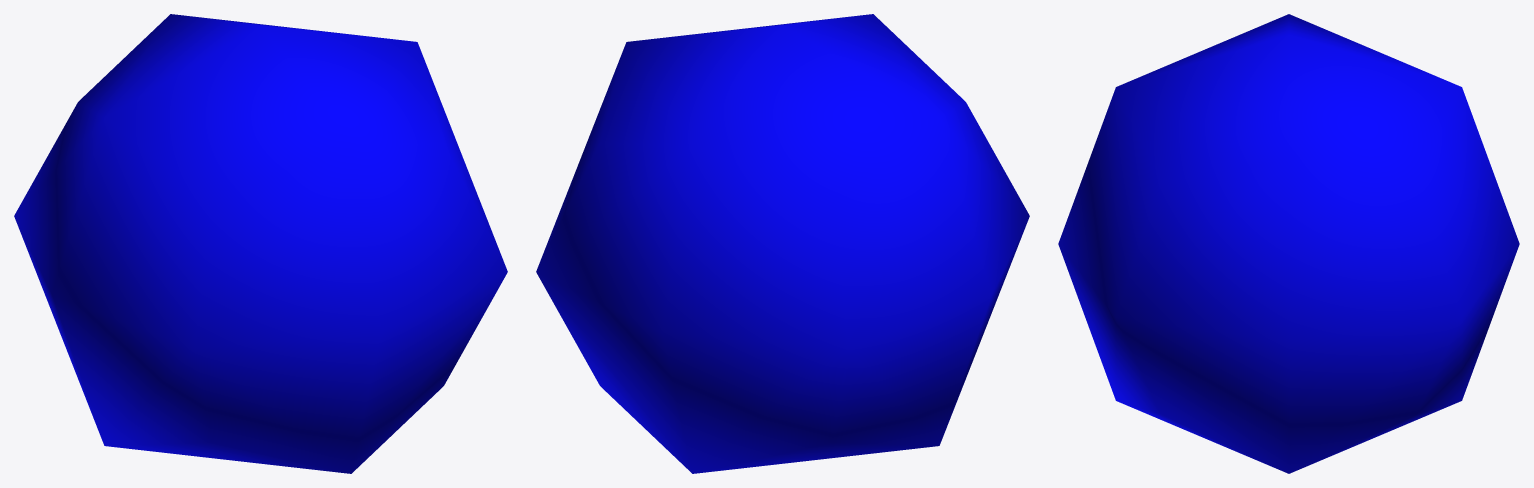
Rendered from axePowerUp.fbx.
3 views of the same model, side by side, from view 1: azimuth 30°, elevation 25°; view 2: azimuth 150°, elevation 25°; view 3: azimuth 270°, elevation 25° (orthographic). The views are drawn at different scales.
Visible parts, largest first — view 1: pCube2; view 2: pCube2; view 3: pCube2.
Part boxes in pixels (x1,y1,x2,y2): pCube2: (14, 14, 507, 473); pCube2: (536, 14, 1029, 473); pCube2: (1058, 14, 1519, 473).
Bounding box in the file's own units: 26.2 × 26.2 × 26.2.
